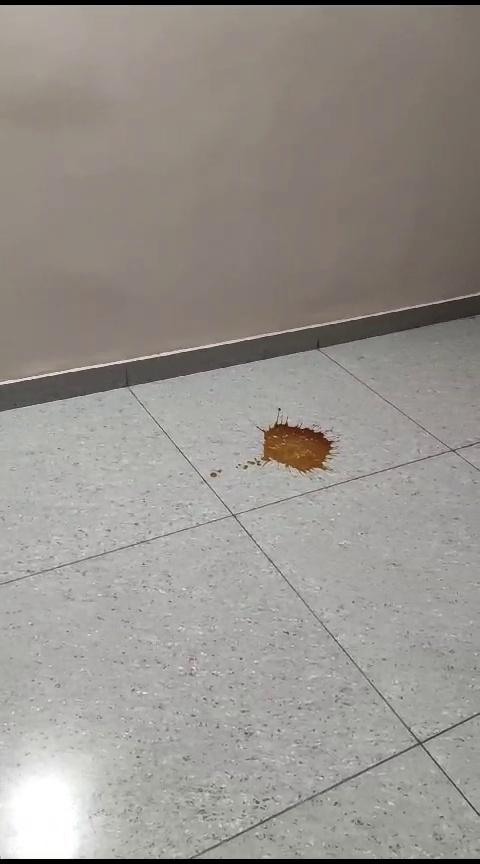dirty_floor: (209, 408, 337, 496)
